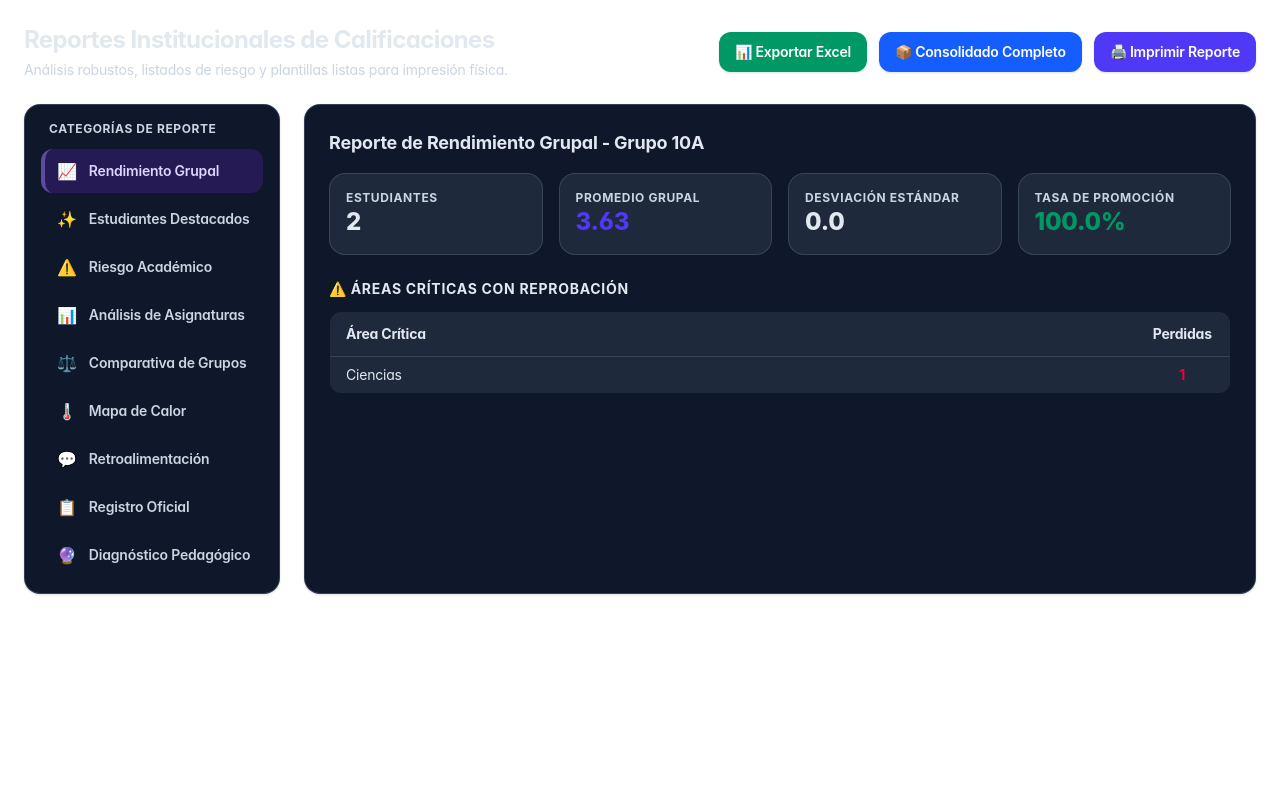
ReportsTab › respects P4 visibility cleanly according to config
The width and height of the screenshot is (1280, 800).
Note: Go to "Registro Oficial"
Click the text "Registro Oficial" at coordinates (139, 507), box top-left (89, 497), bottom-right (189, 517)
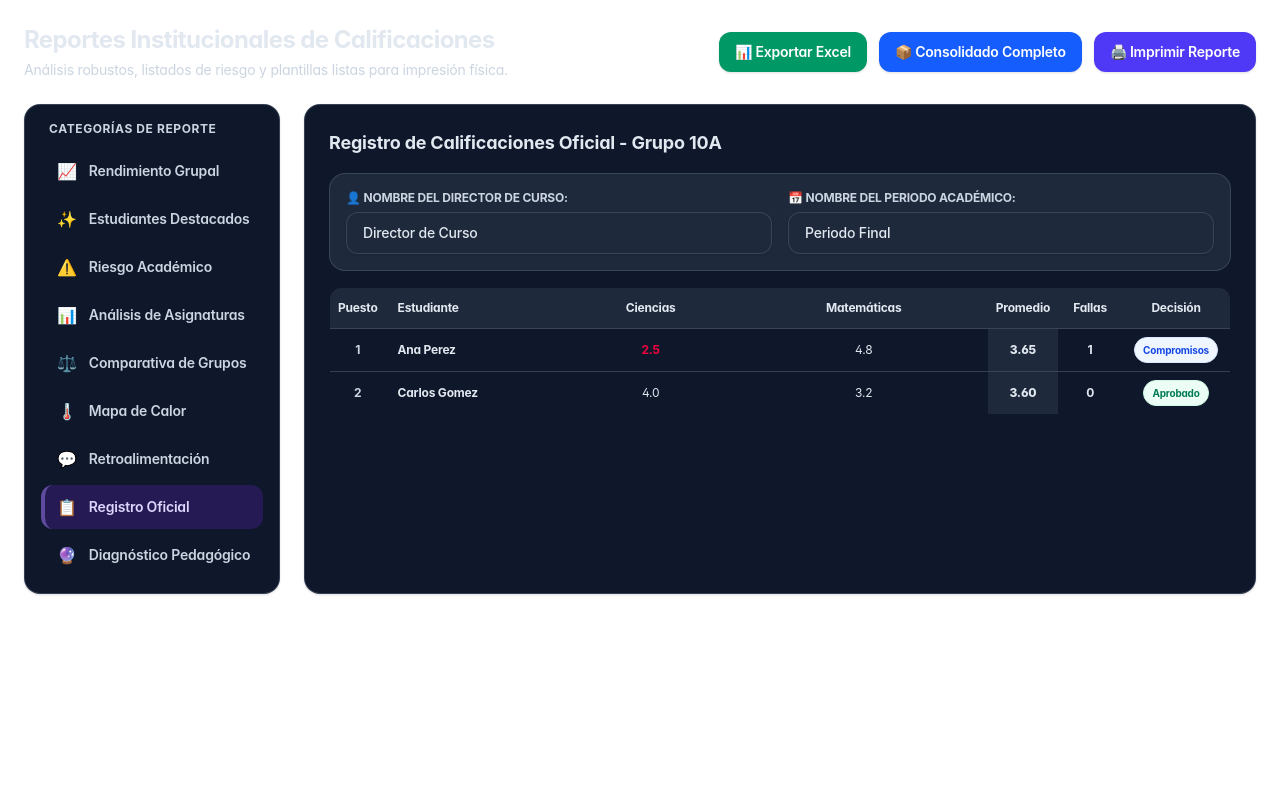
Now the heading "Registro de Calificaciones Oficial - Grupo 10A" is shown, box top-left (329, 129), bottom-right (722, 157)
